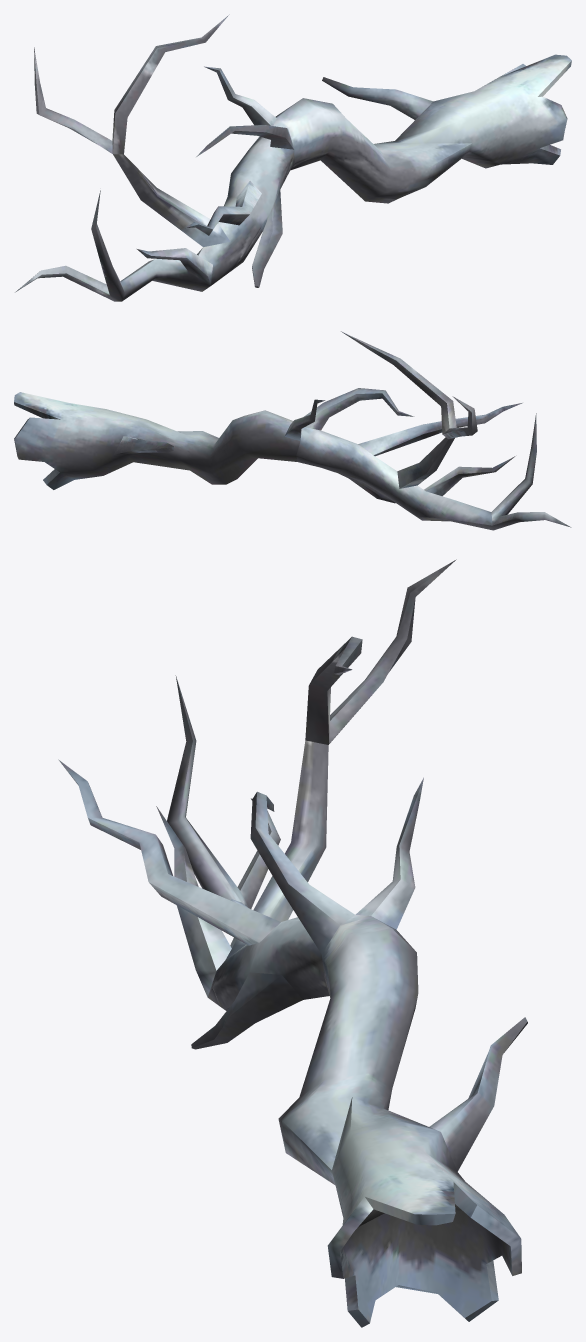
The model's file is map_114_shu_5.fbx.
The picture shows the model from 3 angles, top to bottom: view 1: azimuth 30°, elevation 25°; view 2: azimuth 150°, elevation 25°; view 3: azimuth 270°, elevation 25°; orthographic projection. The views are drawn at different scales.
Parts seen in each view (by area): view 1: map_114_shu_5; view 2: map_114_shu_5; view 3: map_114_shu_5.
Boxes of the visible parts, <box> form: map_114_shu_5: <box>15,14,571,301</box>; map_114_shu_5: <box>14,331,571,530</box>; map_114_shu_5: <box>58,559,527,1327</box>.
Size of the model in its own units: 2.48 by 0.9305 by 0.9858.
